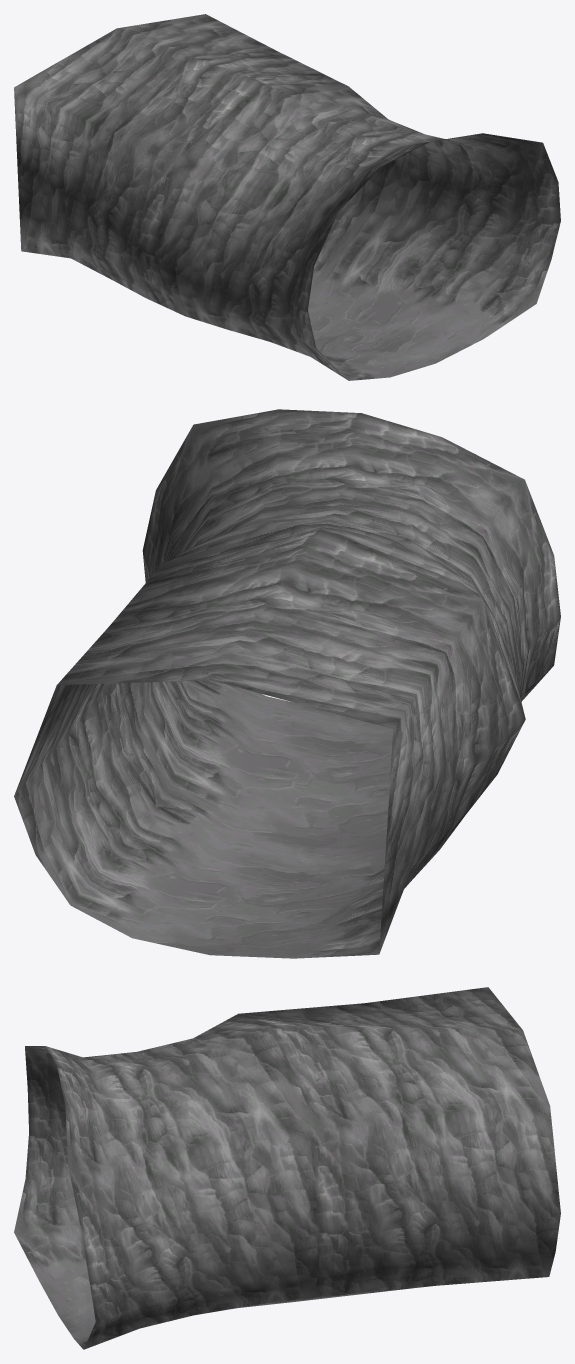
The model's file is SWORDLIGHT20_PS-AREA04_11.fbx.
3 renders of one model, top to bottom at view 1: azimuth 30°, elevation 25°; view 2: azimuth 150°, elevation 25°; view 3: azimuth 270°, elevation 25°, orthographic. The views are drawn at different scales.
Visible parts, largest first — view 1: SWORDLIGHT20_PS-AREA04_11; view 2: SWORDLIGHT20_PS-AREA04_11; view 3: SWORDLIGHT20_PS-AREA04_11.
Part boxes in pixels (bbox=[...]): SWORDLIGHT20_PS-AREA04_11: bbox=[14, 14, 560, 380]; SWORDLIGHT20_PS-AREA04_11: bbox=[14, 409, 560, 958]; SWORDLIGHT20_PS-AREA04_11: bbox=[14, 987, 560, 1349].
Size of the model in its own units: 83939 by 51317 by 98797.
Materials: 2 (2 with a texture image).
